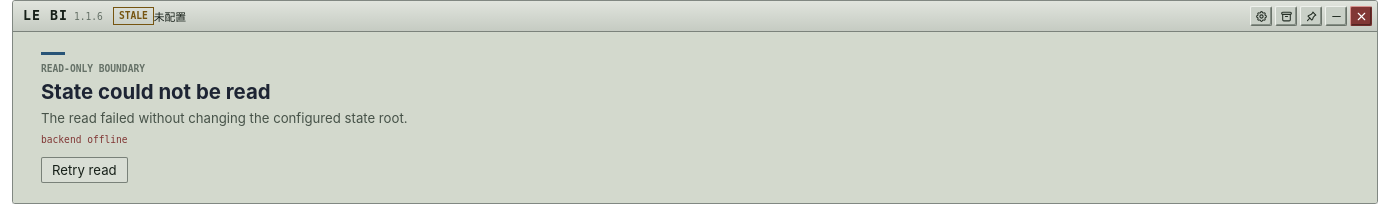
Scenario: LE BI shell › keeps the shell visible and can retry an initial backend failure
This screenshot has width=1378, height=221.
Check: the heading "State could not be read" is shown, box [41, 79, 271, 104]
Check: the text "LE BI" is shown, box [23, 9, 68, 23]
What coordinates should you click on to do the following:
click the button "Retry read"
I would click on:
 (84, 170)
Its box is [41, 157, 128, 183].
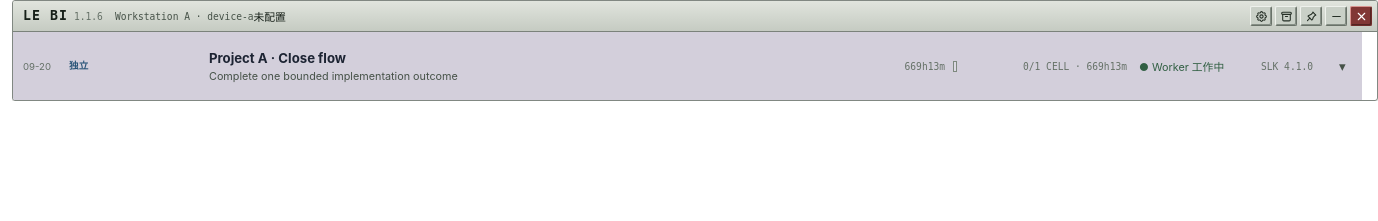
Check: the text "Project A" is shown, box [209, 50, 268, 66]
